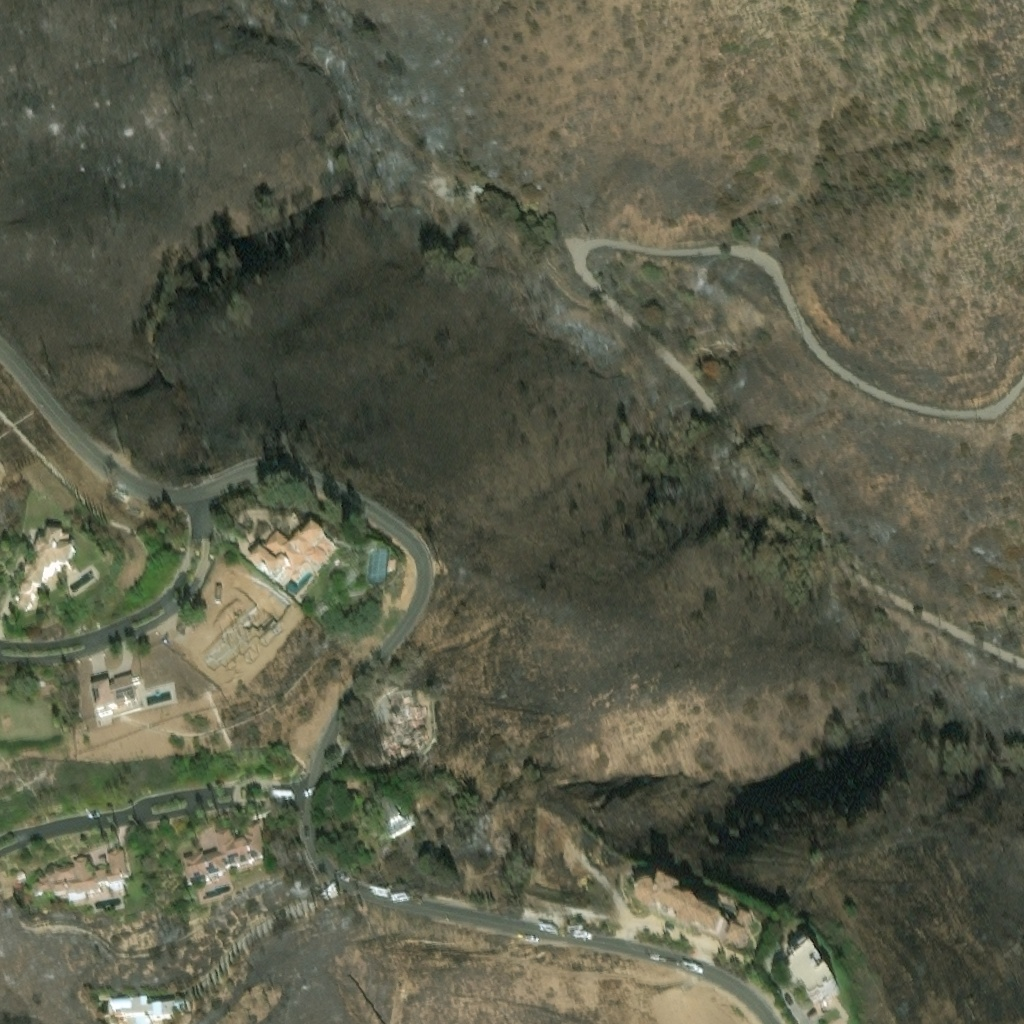0 no-damage: (35, 844, 127, 904), (179, 817, 263, 879), (15, 531, 75, 610), (248, 524, 339, 576), (787, 941, 837, 997), (90, 678, 142, 721), (110, 995, 173, 1023), (335, 551, 360, 585), (260, 619, 283, 645), (313, 602, 330, 617), (492, 830, 507, 846), (389, 560, 396, 572), (163, 638, 168, 644)
1 minor-damage: (635, 875, 724, 933), (724, 920, 746, 942), (734, 906, 750, 923)
3 destroyed: (386, 718, 415, 750), (397, 699, 422, 716), (468, 179, 483, 189)
4 un-classified: (378, 799, 417, 838), (344, 780, 364, 788)
